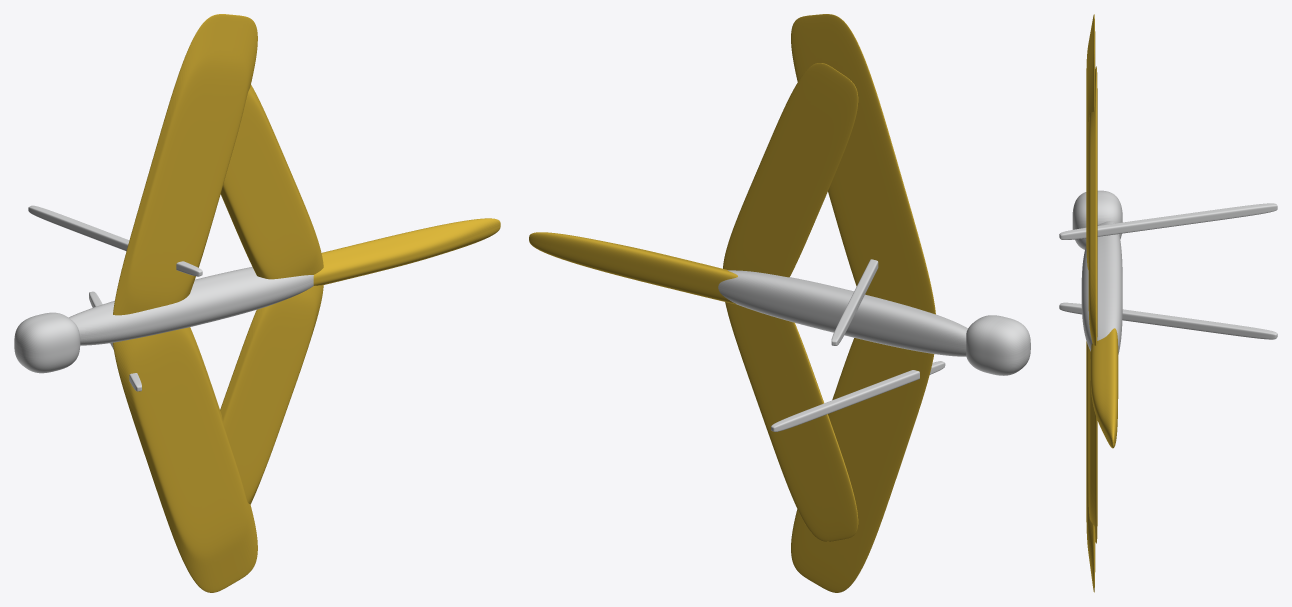
The model's file is dragonfly_sq.glb.
3 views of the same model, side by side, from view 1: azimuth 30°, elevation 25°; view 2: azimuth 150°, elevation 25°; view 3: azimuth 270°, elevation 25° (orthographic).
Parts seen in each view (by area): view 1: superquadric_3, superquadric_4, superquadric_5, superquadric_6, superquadric_0, superquadric_1, superquadric_2, superquadric_7; view 2: superquadric_3, superquadric_5, superquadric_4, superquadric_6, superquadric_0, superquadric_1, superquadric_2, superquadric_8, superquadric_7; view 3: superquadric_0, superquadric_1, superquadric_5, superquadric_7, superquadric_8, superquadric_6, superquadric_2, superquadric_3, superquadric_4.
Boxes of the visible parts, x1=… form: superquadric_3: x1=113, y1=14, x2=257, y2=315; superquadric_4: x1=113, y1=327, x2=257, y2=592; superquadric_5: x1=220, y1=85, x2=323, y2=279; superquadric_6: x1=220, y1=285, x2=323, y2=504; superquadric_0: x1=68, y1=267, x2=313, y2=345; superquadric_1: x1=313, y1=218, x2=500, y2=285; superquadric_2: x1=14, y1=312, x2=80, y2=373; superquadric_7: x1=28, y1=205, x2=202, y2=276; superquadric_3: x1=791, y1=14, x2=935, y2=314; superquadric_5: x1=723, y1=63, x2=858, y2=277; superquadric_4: x1=791, y1=338, x2=934, y2=592; superquadric_6: x1=725, y1=302, x2=858, y2=541; superquadric_0: x1=718, y1=270, x2=967, y2=356; superquadric_1: x1=529, y1=232, x2=737, y2=304; superquadric_2: x1=966, y1=315, x2=1030, y2=375; superquadric_8: x1=771, y1=361, x2=945, y2=431; superquadric_7: x1=831, y1=259, x2=878, y2=345; superquadric_0: x1=1081, y1=221, x2=1122, y2=354; superquadric_1: x1=1090, y1=328, x2=1118, y2=448; superquadric_5: x1=1088, y1=66, x2=1097, y2=345; superquadric_7: x1=1059, y1=203, x2=1277, y2=239; superquadric_8: x1=1059, y1=302, x2=1277, y2=339; superquadric_6: x1=1088, y1=348, x2=1097, y2=543; superquadric_2: x1=1072, y1=190, x2=1122, y2=249; superquadric_3: x1=1086, y1=14, x2=1095, y2=269; superquadric_4: x1=1086, y1=341, x2=1095, y2=592.
Size of the model in its own units: 0.8858 by 1 by 0.3461.
